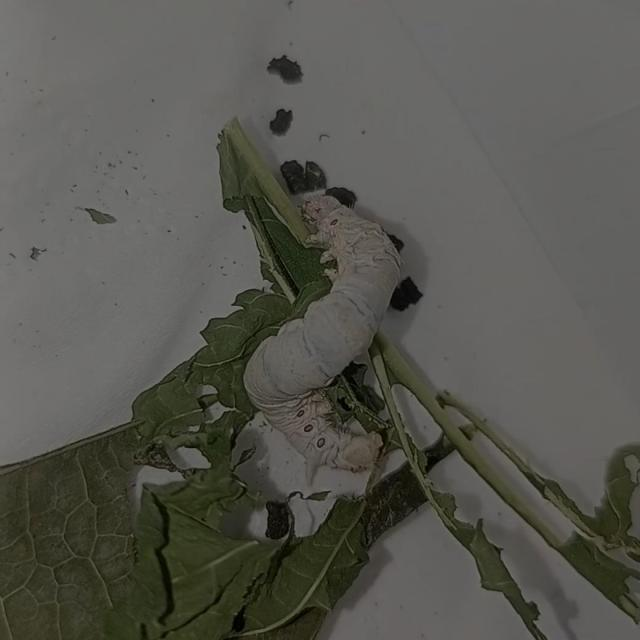Healthy: (222, 146, 466, 526)
